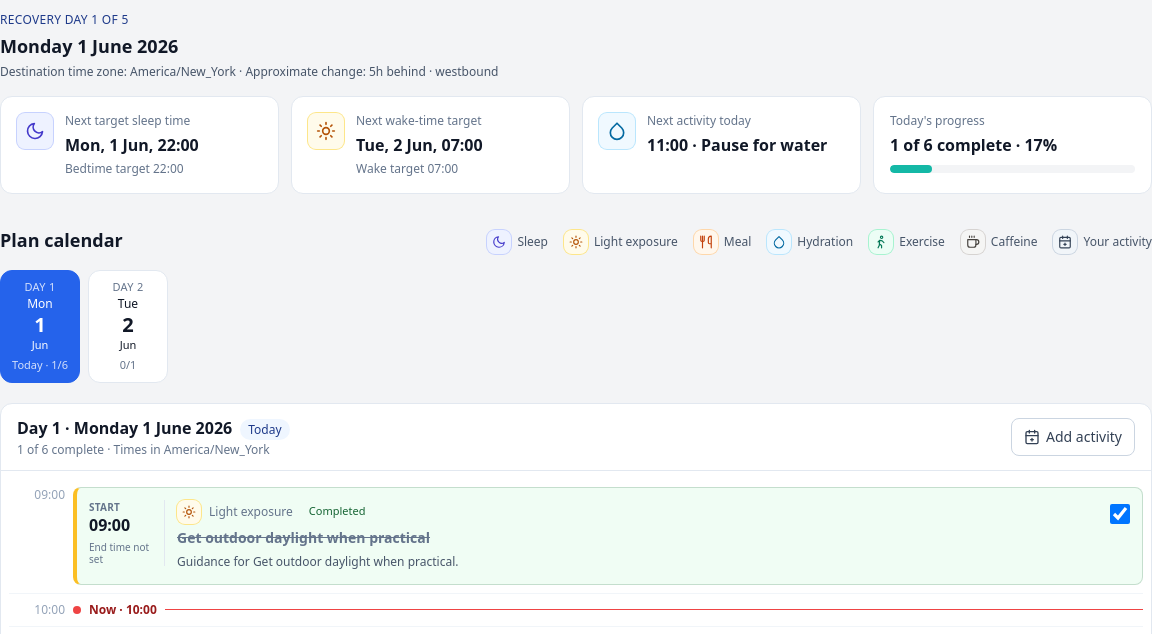
Test: DailyDashboard personal activities › adds an activity to the selected day in that day's time zone
Click the button "Add activity" at (1073,436), box [1011,418,1135,456]
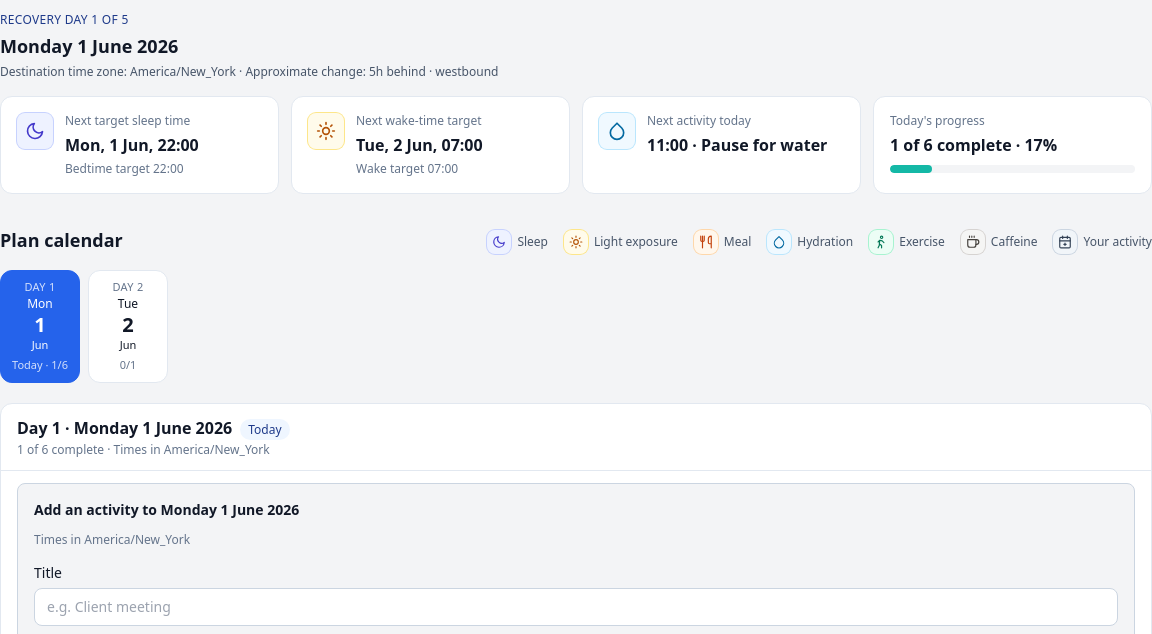
Type "Dinner with friends" into the field labelled "Title" at (576,606), box [34,588,1118,626]
(page scrolled)
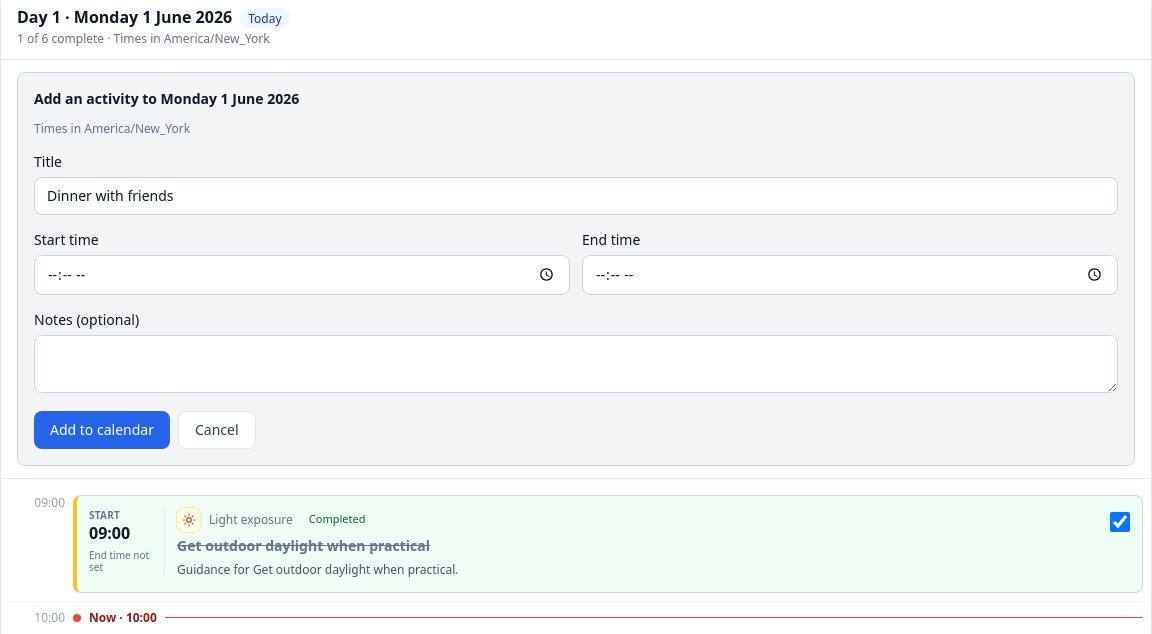
Type "19:00" into the time field labelled "Start time" at (302,274), box [34,254,570,294]
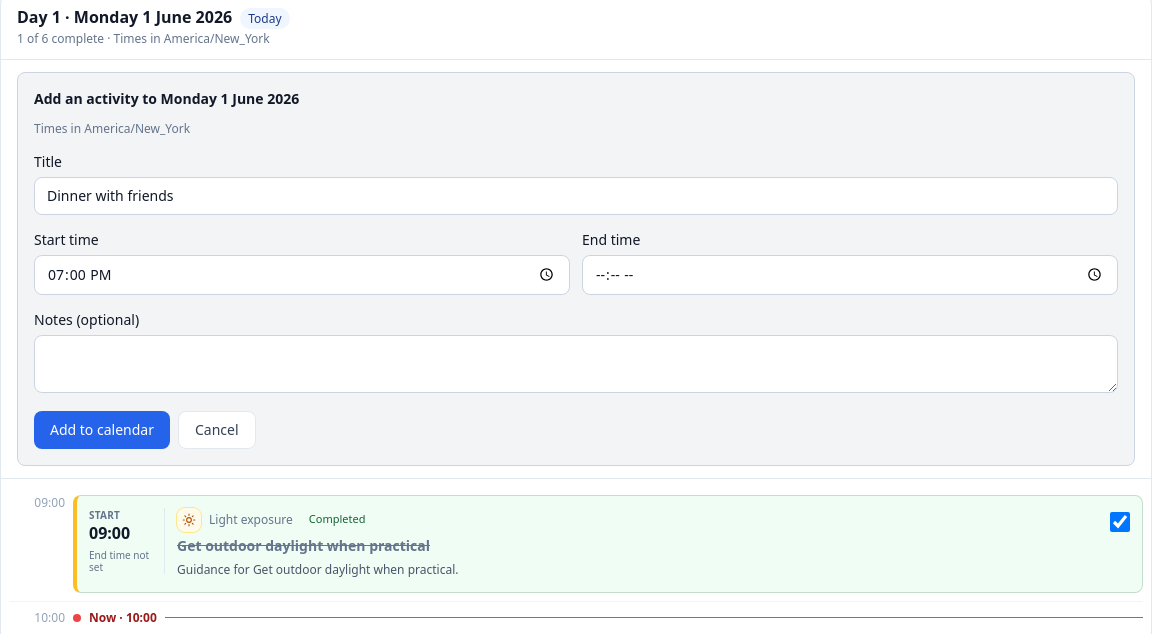
Type "21:00" into the time field labelled "End time" at (850,274), box [582,254,1118,294]
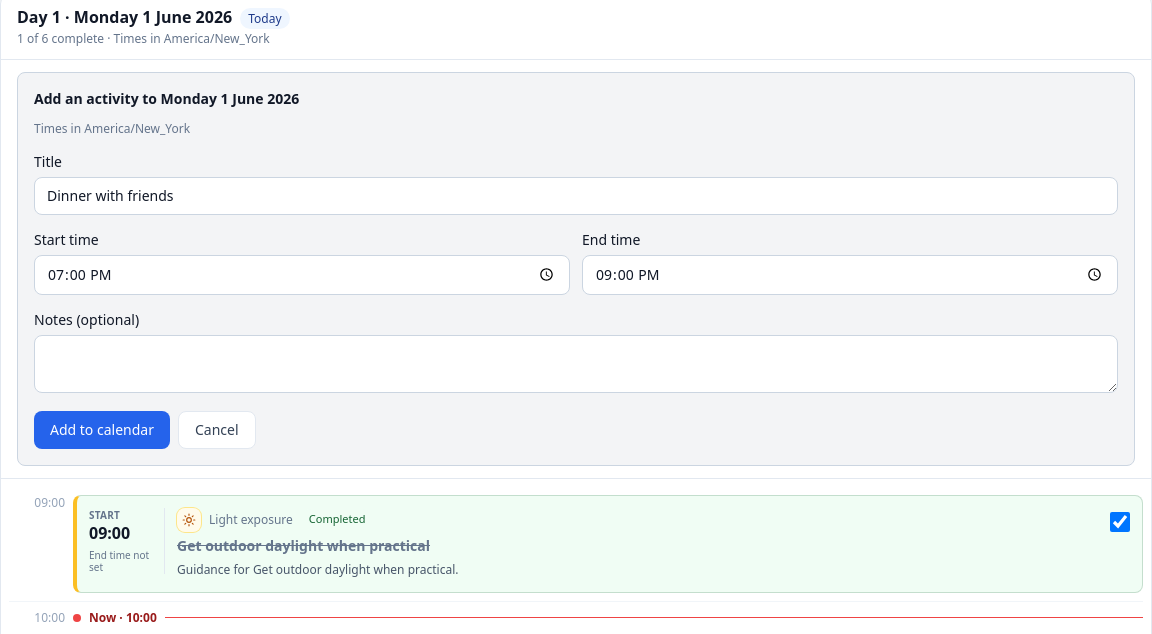
Click the button "Add to calendar" at (102,430), box [34,410,170,448]
(page scrolled)
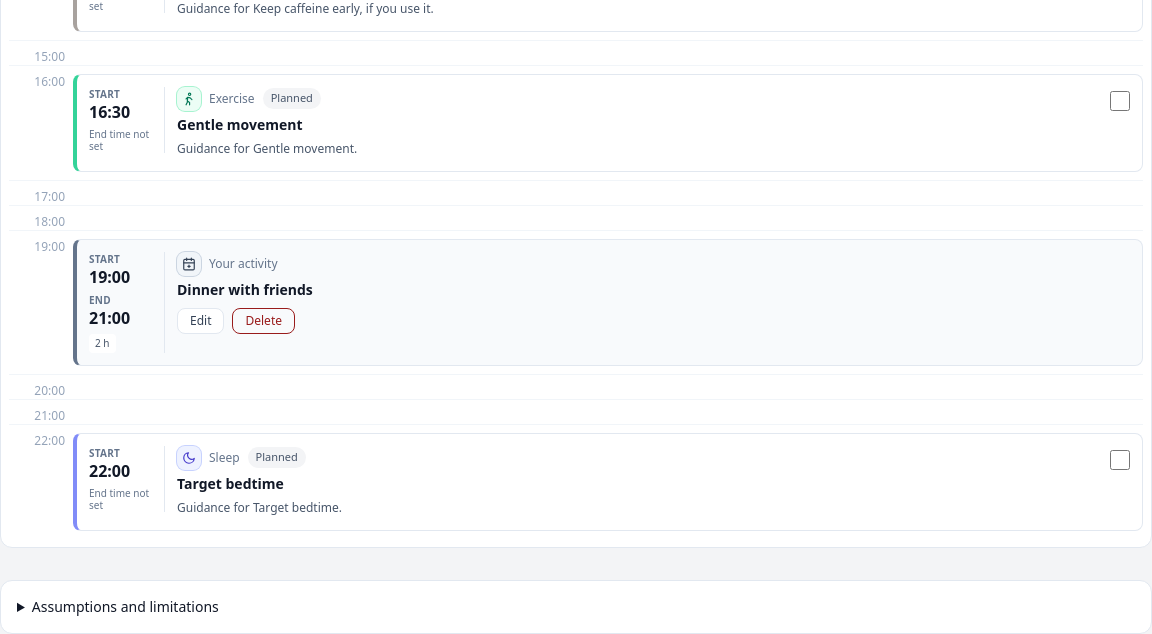
Check: the button with aria-label "Edit Dinner with friends" is shown, box [177,308,224,334]
